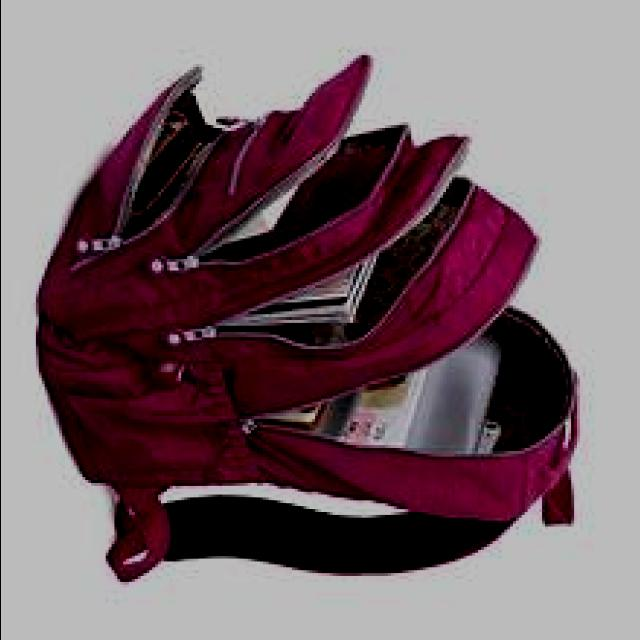backpack: (36, 53, 583, 583)
